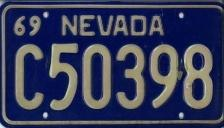0: (82, 42, 112, 111)
3: (113, 42, 148, 111)
5: (46, 41, 80, 112)
8: (179, 42, 216, 112)
9: (147, 43, 182, 110)
C: (12, 42, 46, 112)
